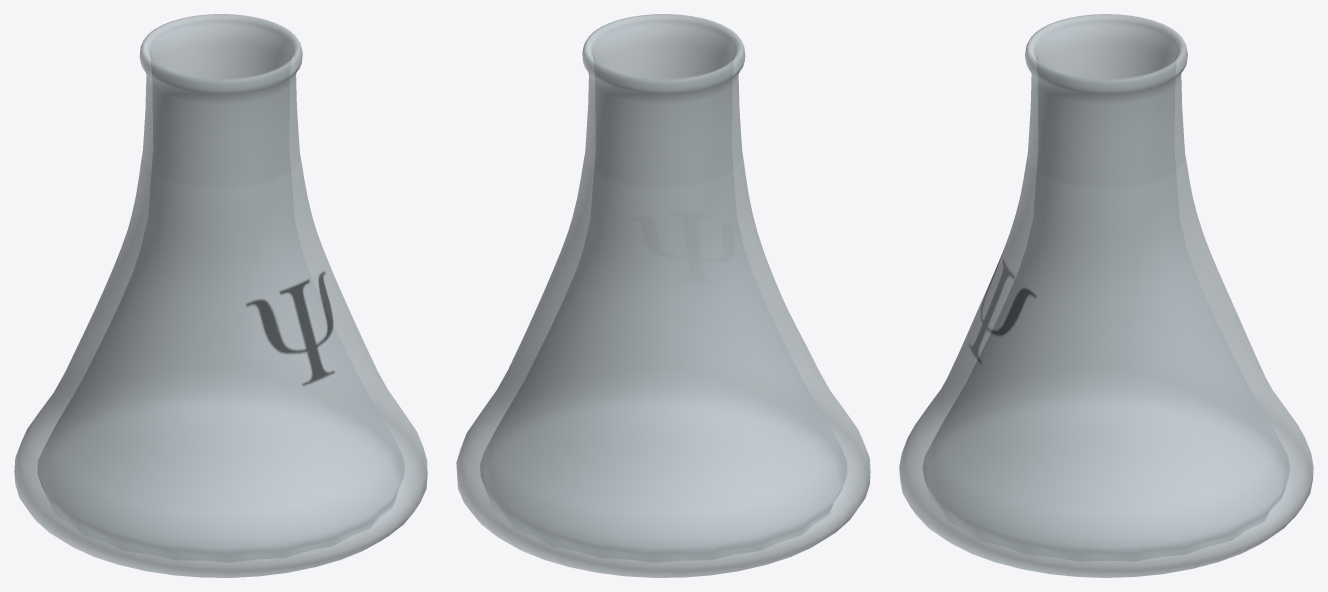
The model's file is asset.gltf.
3 views of the same model, side by side, from view 1: azimuth 30°, elevation 25°; view 2: azimuth 150°, elevation 25°; view 3: azimuth 270°, elevation 25° (orthographic).
Parts seen in each view (by area): view 1: Beaker; view 2: Beaker; view 3: Beaker.
Part boxes in pixels (x1,y1,x2,y2): Beaker: (14,14,427,577); Beaker: (456,14,870,577); Beaker: (899,14,1313,577).
Bounding box in the file's own units: 2.29 × 2.78 × 2.29.
Materials: 1 (1 with a texture image).
